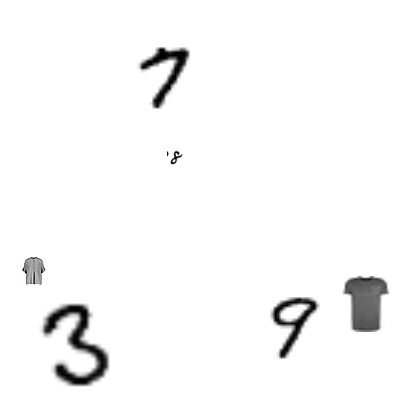3: (20, 289, 132, 401)
7: (123, 27, 207, 111)
8: (164, 146, 186, 168)
9: (250, 277, 334, 361)
Shirt: (20, 257, 48, 285)
T-shirt/top: (337, 276, 393, 332)
